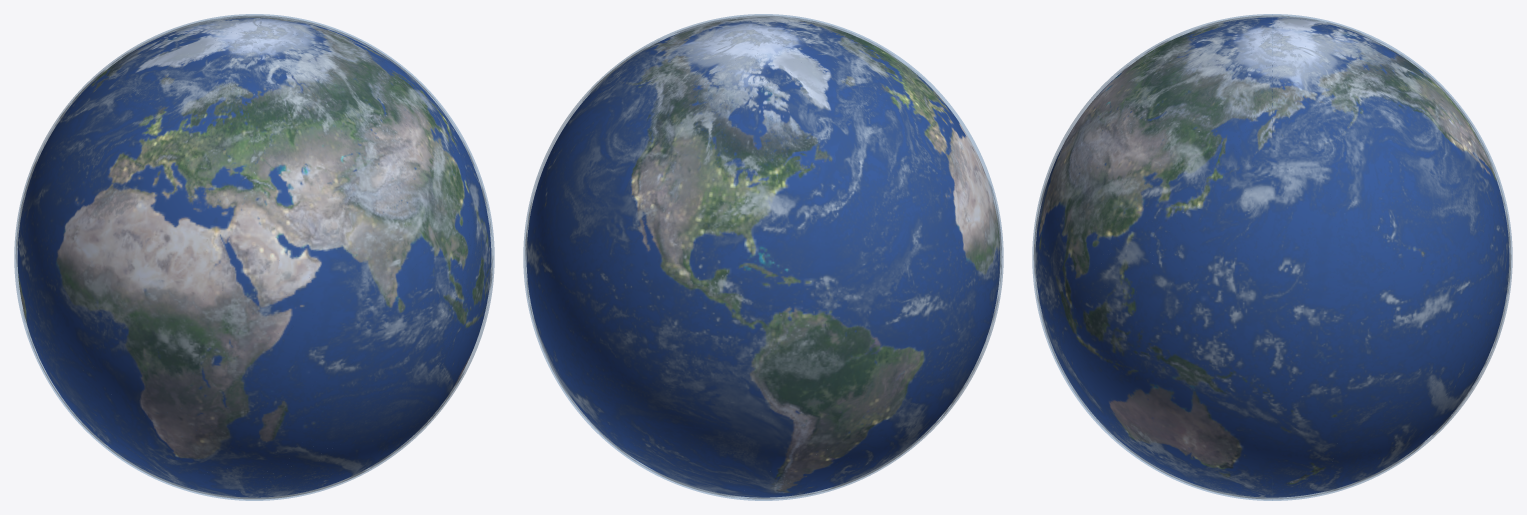
The model's file is earth_compressed(2).glb.
The picture shows the model from 3 angles, left to right: view 1: azimuth 30°, elevation 25°; view 2: azimuth 150°, elevation 25°; view 3: azimuth 270°, elevation 25°; orthographic projection.
Visible parts, largest first — view 1: pSphere5, pSphere1, pSphere4; view 2: pSphere5, pSphere1, pSphere4; view 3: pSphere5, pSphere1, pSphere4.
Part boxes in pixels (bbox=[...]): pSphere5: bbox=[14, 14, 494, 500]; pSphere1: bbox=[17, 17, 491, 497]; pSphere4: bbox=[16, 15, 492, 499]; pSphere5: bbox=[523, 14, 1003, 500]; pSphere1: bbox=[526, 17, 1000, 497]; pSphere4: bbox=[525, 15, 1001, 499]; pSphere5: bbox=[1032, 14, 1512, 500]; pSphere1: bbox=[1035, 17, 1509, 497]; pSphere4: bbox=[1034, 15, 1510, 499].
Bounding box in the file's own units: 192 × 196 × 192.
Materials: 3 (2 with a texture image).
